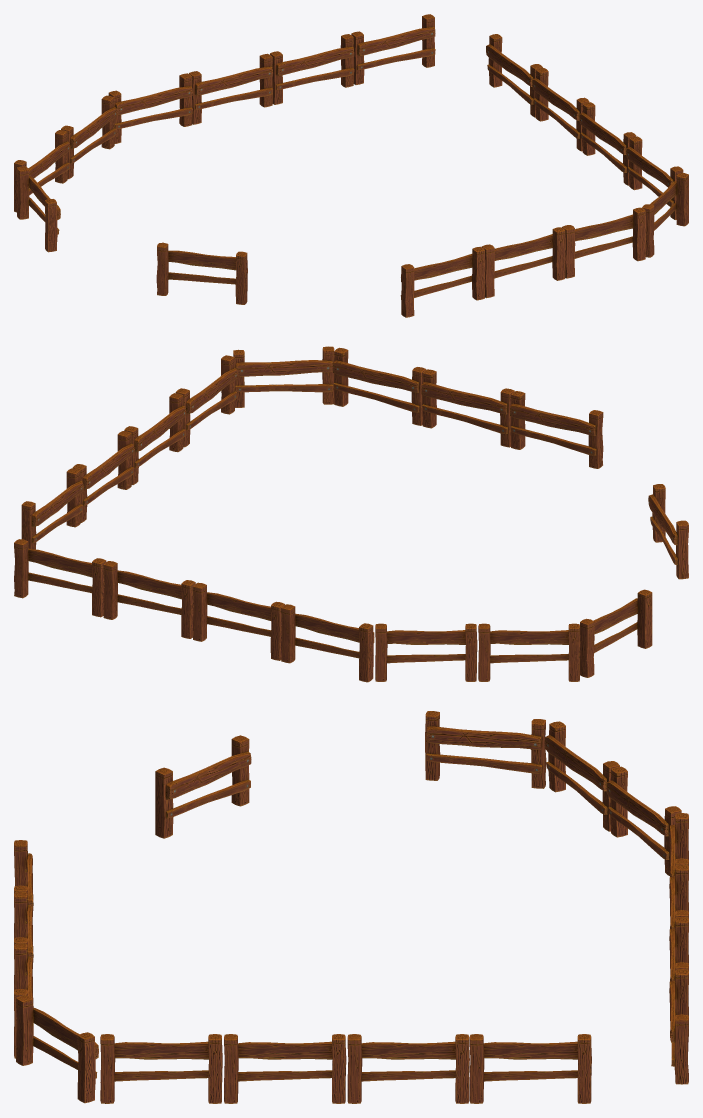
Rendered from Fencing.fbx.
The picture shows the model from 3 angles, top to bottom: view 1: azimuth 30°, elevation 25°; view 2: azimuth 150°, elevation 25°; view 3: azimuth 270°, elevation 25°; orthographic projection. The views are drawn at different scales.
Visible parts, largest first — view 1: Cube.006__0.015, Cube.006__0.014, Cube.006__0.013, Cube.006__0.002, Cube.006__0.001, Cube.006__0.012, Cube.006__0, Cube.006__0.005, Cube.006__0.006, Cube.006__0.008, Cube.006__0.004, Cube.006__0.007 (+4 smaller); view 2: Cube.006__0.003, Cube.006__0.004, Cube.006__0.005, Cube.006__0.014, Cube.006__0.002, Cube.006__0.001, Cube.006__0.011, Cube.006__0, Cube.006__0.012, Cube.006__0.013, Cube.006__0.006, Cube.006__0.010 (+4 smaller); view 3: Cube.006__0.007, Cube.006__0.010, Cube.006__0.009, Cube.006__0.008, Cube.006__0.006, Cube.006__0.015, Cube.006__0.011, Cube.006__0.003, Cube.006__0.004, Cube.006__0.002, Cube.006__0.012, Cube.006__0.013 (+4 smaller).
Boxes of the visible parts, x1,y1,x2,y2 form: Cube.006__0.015: [156, 242, 247, 304]; Cube.006__0.014: [400, 246, 485, 317]; Cube.006__0.013: [481, 227, 565, 298]; Cube.006__0.002: [351, 14, 435, 84]; Cube.006__0.001: [270, 34, 354, 104]; Cube.006__0.012: [562, 207, 645, 278]; Cube.006__0: [189, 53, 272, 124]; Cube.006__0.005: [108, 73, 192, 143]; Cube.006__0.006: [17, 166, 60, 252]; Cube.006__0.008: [579, 102, 636, 185]; Cube.006__0.004: [61, 95, 117, 179]; Cube.006__0.007: [532, 68, 589, 151]; Cube.006__0.003: [478, 623, 580, 681]; Cube.006__0.004: [375, 623, 477, 681]; Cube.006__0.005: [281, 604, 374, 682]; Cube.006__0.014: [510, 391, 603, 468]; Cube.006__0.002: [14, 539, 106, 617]; Cube.006__0.001: [103, 561, 195, 638]; Cube.006__0.011: [233, 346, 334, 407]; Cube.006__0: [192, 582, 284, 660]; Cube.006__0.012: [333, 347, 426, 425]; Cube.006__0.013: [421, 369, 514, 447]; Cube.006__0.006: [580, 589, 652, 677]; Cube.006__0.010: [21, 468, 83, 549]; Cube.006__0.007: [347, 1034, 469, 1103]; Cube.006__0.010: [469, 1034, 591, 1103]; Cube.006__0.009: [100, 1034, 222, 1103]; Cube.006__0.008: [224, 1034, 346, 1103]; Cube.006__0.006: [425, 711, 546, 788]; Cube.006__0.015: [155, 735, 251, 838]; Cube.006__0.011: [16, 995, 98, 1103]; Cube.006__0.003: [544, 721, 619, 831]; Cube.006__0.004: [606, 766, 681, 875]; Cube.006__0.002: [669, 969, 688, 1084]; Cube.006__0.012: [14, 943, 33, 1058]; Cube.006__0.013: [14, 891, 33, 990].
Size of the model in its own units: 1082 by 99.65 by 938.
Materials: 1 (1 with a texture image).
